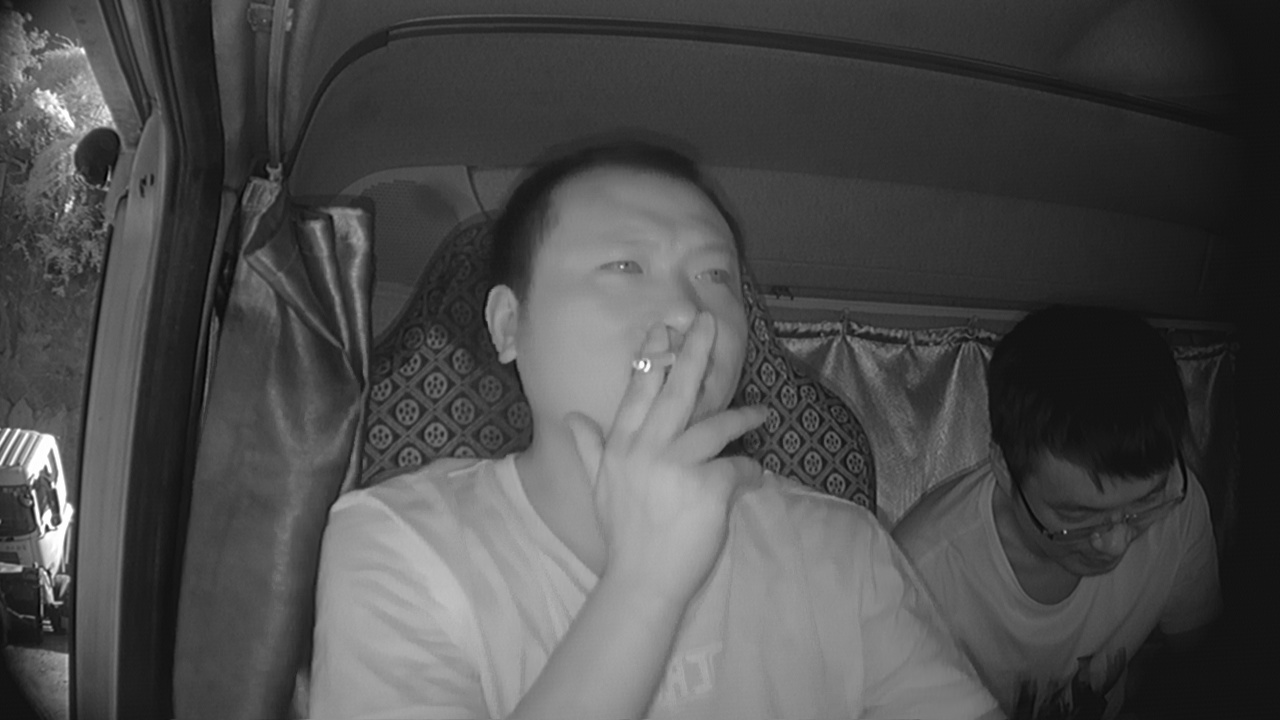hand: (599, 317, 768, 518)
